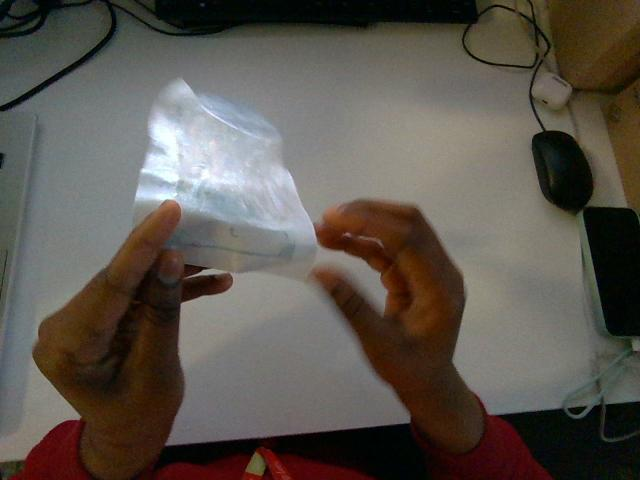gallipot: (133, 80, 316, 277)
